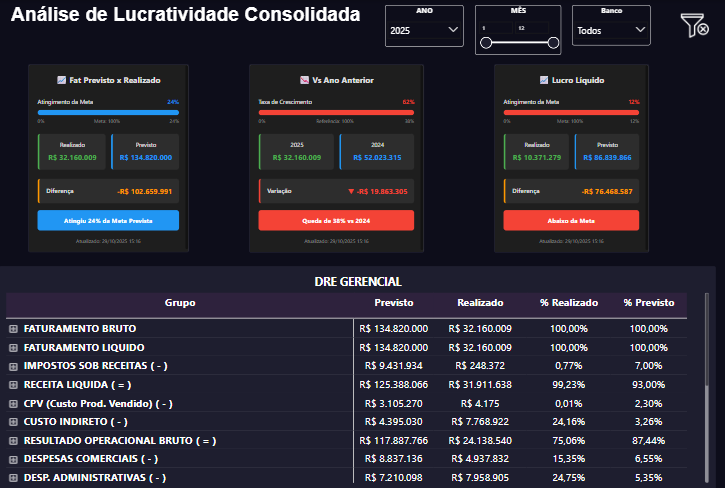

This screenshot's page, from the dashboard's own definition file:
{"tool":"powerbi","page":{"name":"DRE Gerencial","canvas":[1600,1080],"ordinal":0},"visuals":[{"type":"pivotTable","title":"DRE GERENCIAL","fields":{"Rows":["2_FormatoDRE.Grupo","2_PlanodeContas.Classificação2"],"Values":["Medidas - DRE.DRE - Previsto","Medidas - DRE.DRE - Realizado","Medidas - DRE.DRE - % Realizado","Medidas - DRE.DRE - % Previsto"]},"box":[0,585.5,1580.5,493.2],"z":0},{"type":"textbox","box":[27.5,7.5,932.5,80],"z":1000},{"type":"image","box":[1488.2,8.7,92.3,95.2],"z":4000},{"type":"htmlContent443BE3AD55E043BF878BED274D3A6855","fields":{"content":["Medidas - DRE.DRE - Faturamento Visual"]},"box":[63.8,141.1,355,415],"z":5001},{"type":"htmlContent443BE3AD55E043BF878BED274D3A6855","fields":{"content":["Medidas - DRE.DRE - Realizado vs Ano Anterior Visual"]},"box":[551.4,141.4,385.7,415.7],"z":5002},{"type":"slicer","title":"ANO","fields":{"Values":["D_Calendario.Ano"]},"box":[851.3,12.1,172.7,91.8],"z":5003},{"type":"slicer","title":"MÊS","fields":{"Values":["D_Calendario.Mes"]},"box":[1048.7,11.5,190,110],"z":5004},{"type":"slicer","title":"Banco","fields":{"Values":["D_Banco.Empresa"]},"box":[1263.2,11.5,173,89.4],"z":5005},{"type":"htmlContent443BE3AD55E043BF878BED274D3A6855","fields":{"content":["Medidas - DRE.Visual - Lucro Líquido vs Previsto"]},"box":[1092,142,342,416],"z":5006}]}

Visuals, with their boxes in screenshot pixels (x1, y1, x2, y2), scaled from the page's 1600x1080 canvas onto the 725x488 screenshot:
"DRE GERENCIAL" pivotTable: [0,265,716,487]
textbox: [12,3,435,40]
image: [674,4,716,47]
htmlContent443BE3AD55E043BF878BED274D3A6855 - Medidas - DRE.DRE - Faturamento Visual: [29,64,190,251]
htmlContent443BE3AD55E043BF878BED274D3A6855 - Medidas - DRE.DRE - Realizado vs Ano Anterior Visual: [250,64,425,252]
"ANO" slicer: [386,5,464,47]
"MÊS" slicer: [475,5,561,55]
"Banco" slicer: [572,5,651,46]
htmlContent443BE3AD55E043BF878BED274D3A6855 - Medidas - DRE.Visual - Lucro Líquido vs Previsto: [495,64,650,252]
